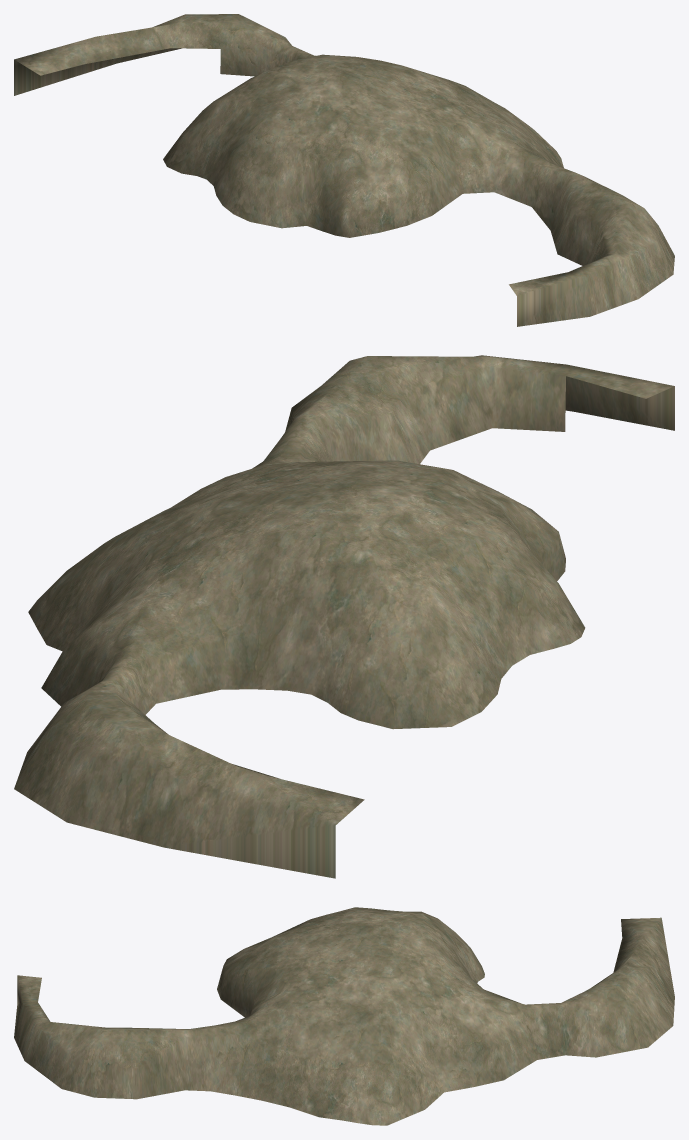
The model's file is OVERHILL_A_01_OBJECT226.fbx.
The picture shows the model from 3 angles, top to bottom: view 1: azimuth 30°, elevation 25°; view 2: azimuth 150°, elevation 25°; view 3: azimuth 270°, elevation 25°; orthographic projection. The views are drawn at different scales.
Parts seen in each view (by area): view 1: OVERHILL_A_01_OBJECT226; view 2: OVERHILL_A_01_OBJECT226; view 3: OVERHILL_A_01_OBJECT226.
Boxes of the visible parts, x1=… form: OVERHILL_A_01_OBJECT226: x1=14, y1=14, x2=674, y2=326; OVERHILL_A_01_OBJECT226: x1=14, y1=355, x2=674, y2=878; OVERHILL_A_01_OBJECT226: x1=14, y1=907, x2=674, y2=1125.
Size of the model in its own units: 192520 by 63401 by 339898.
1 material, 1 textured.
